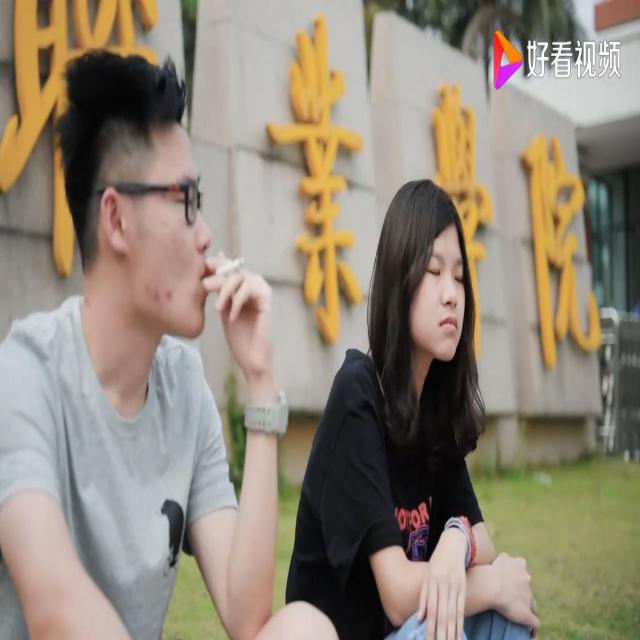smoke: (205, 248, 249, 291)
